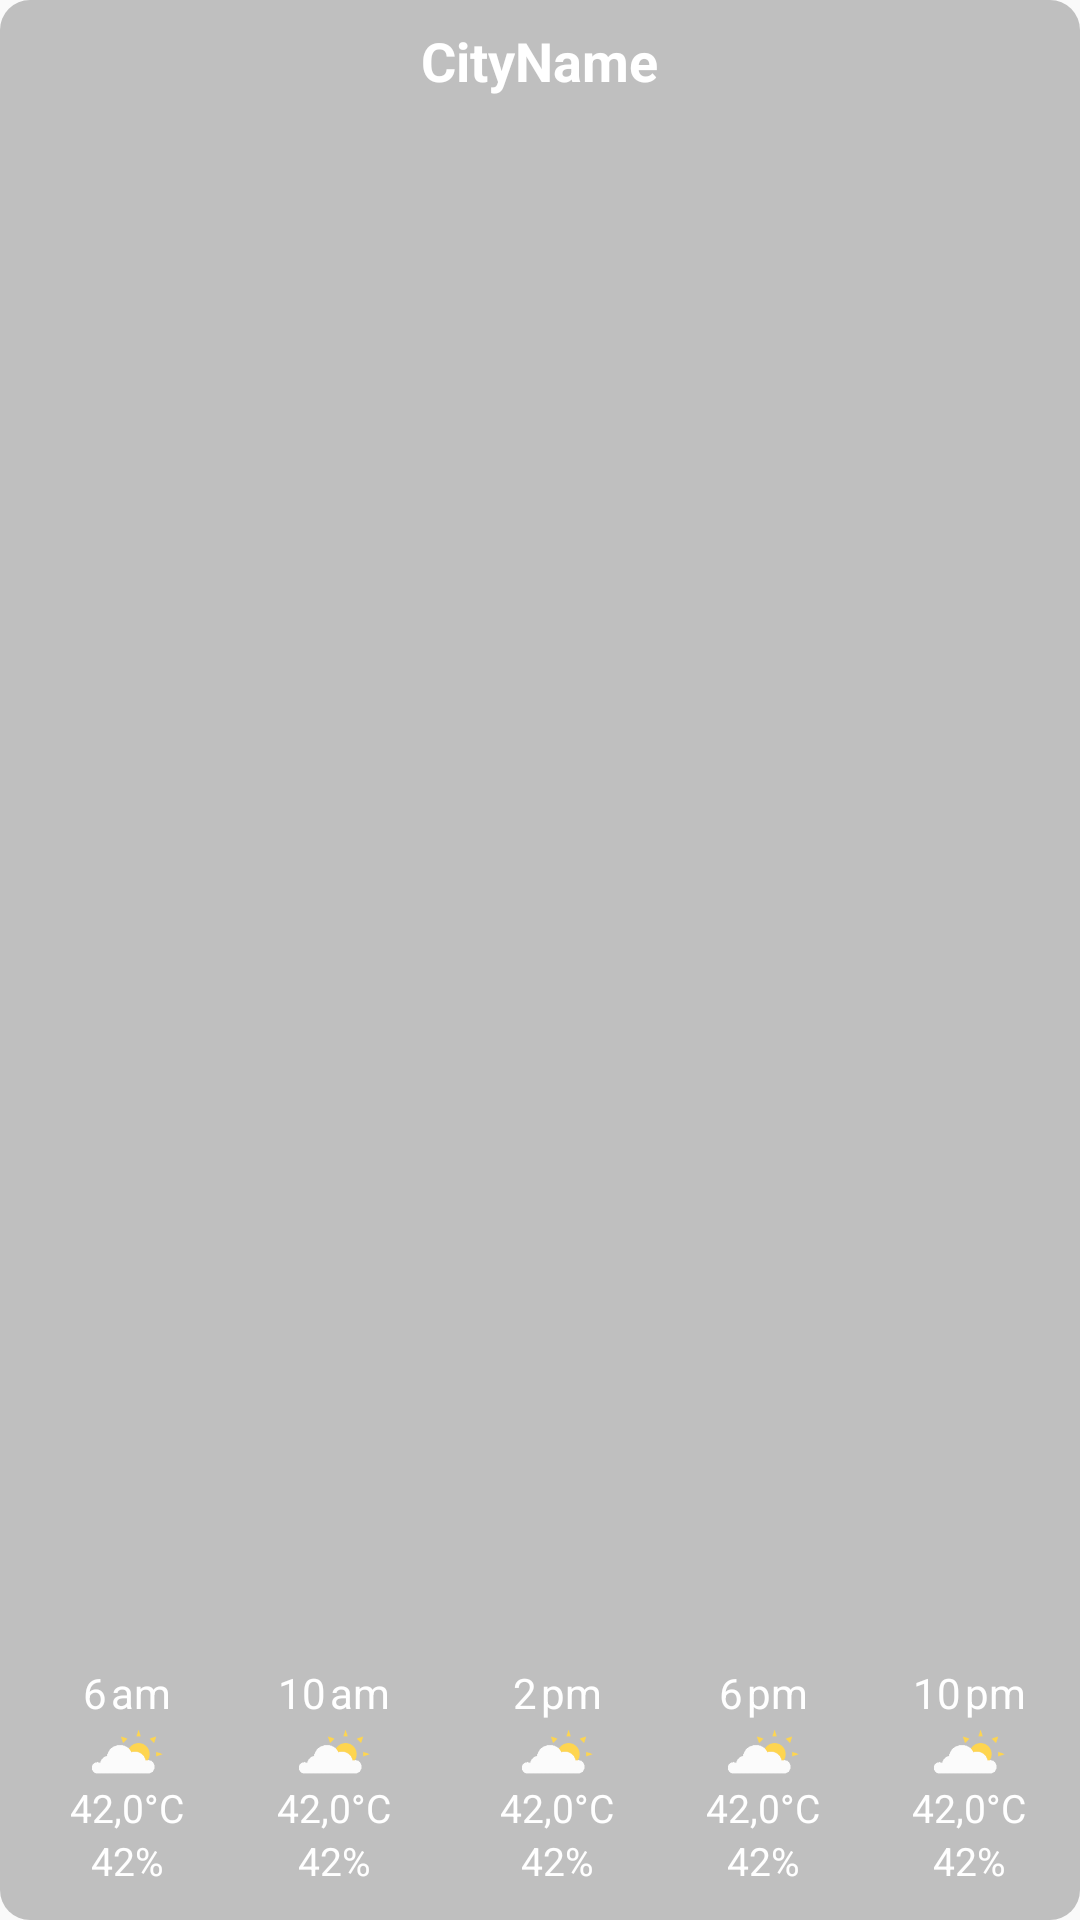

Screen size 1080w x 1920h. Icon name, then its center in pixels as (x=x, y=y):
weather sunny with clouds: (x=127, y=1751), (x=334, y=1751), (x=557, y=1751), (x=763, y=1751), (x=969, y=1751)
